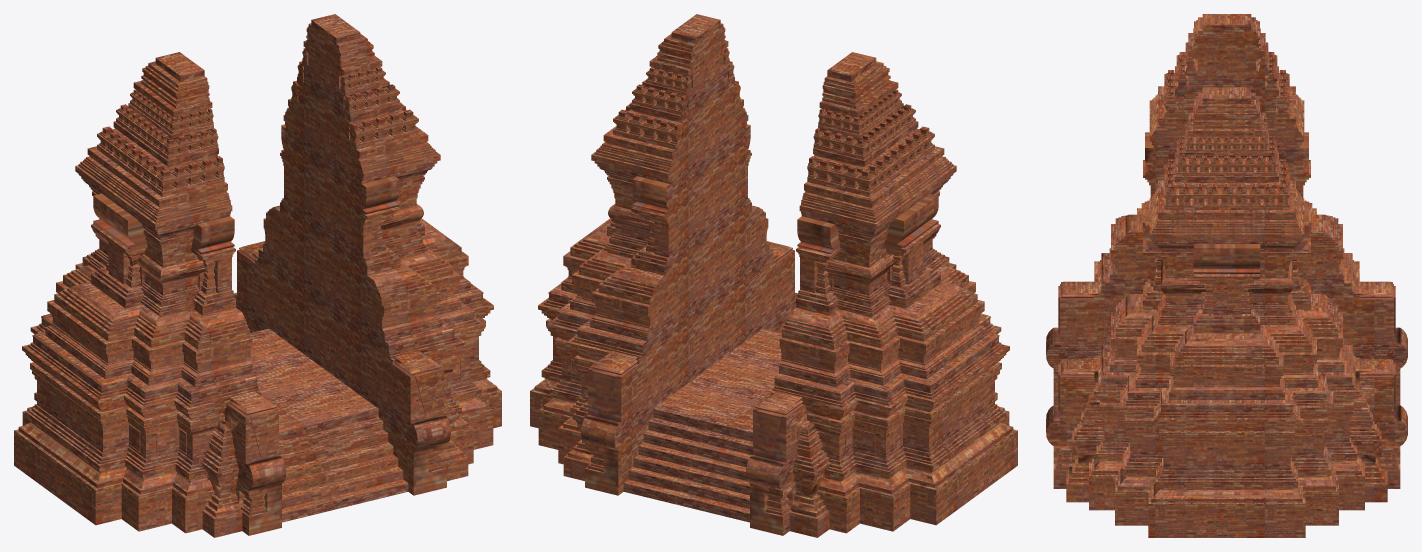
The model's file is bentar.fbx.
3 views of the same model, side by side, from view 1: azimuth 30°, elevation 25°; view 2: azimuth 150°, elevation 25°; view 3: azimuth 270°, elevation 25° (orthographic). The views are drawn at different scales.
Parts seen in each view (by area): view 1: Candi_Bentar; view 2: Candi_Bentar; view 3: Candi_Bentar.
Boxes of the visible parts, bbox=[...] form: Candi_Bentar: bbox=[14, 14, 501, 537]; Candi_Bentar: bbox=[530, 14, 1017, 537]; Candi_Bentar: bbox=[1046, 14, 1407, 537].
Size of the model in its own units: 1900 by 1792 by 1521.
